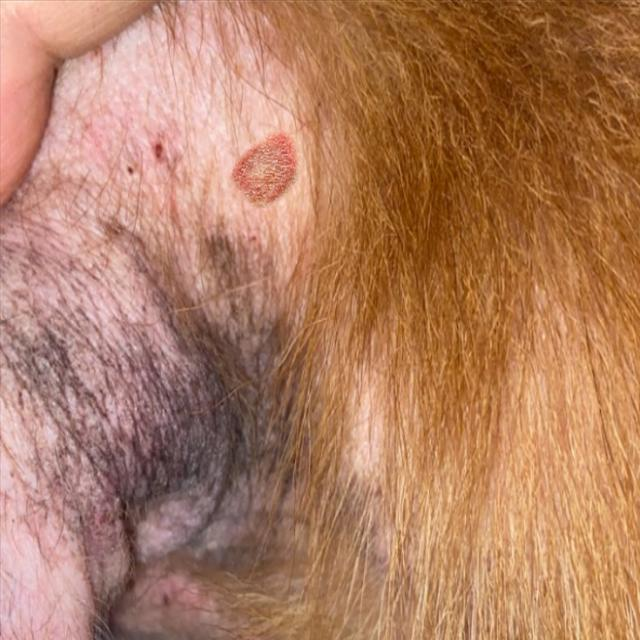ringworm: (226, 119, 338, 234)
